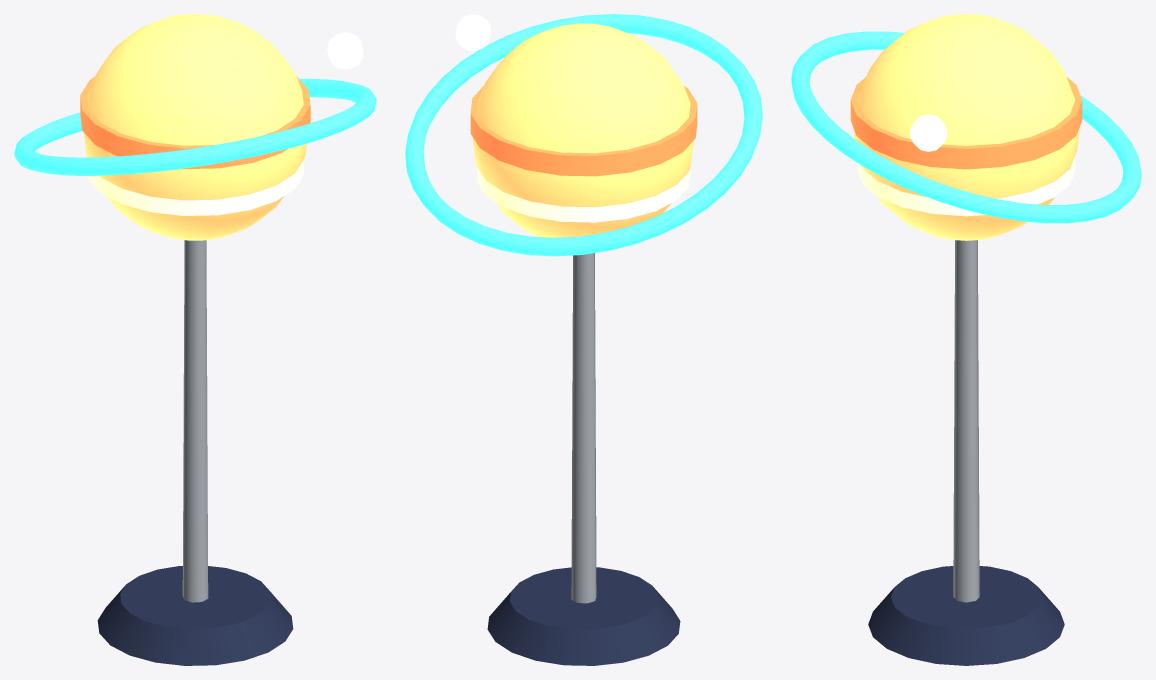
The model's file is space_planet_lamp.glb.
3 renders of one model, left to right at view 1: azimuth 30°, elevation 25°; view 2: azimuth 150°, elevation 25°; view 3: azimuth 270°, elevation 25°, orthographic.
Size of the model in its own units: 0.9699 by 1.75 by 0.9266.
